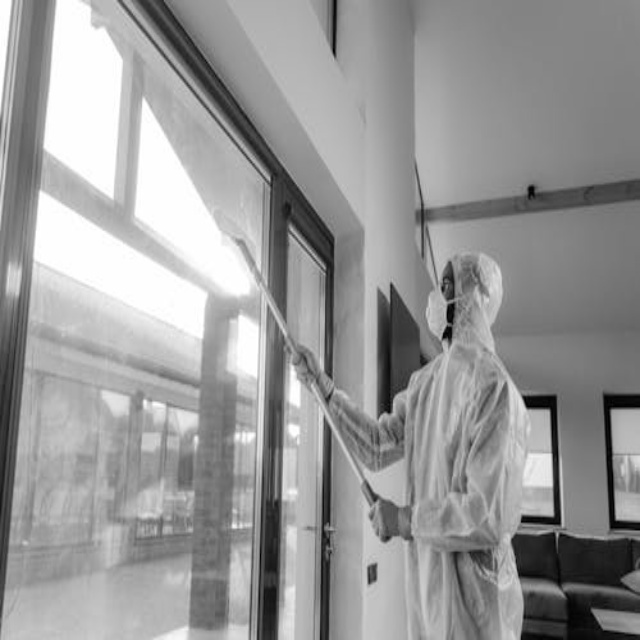Guantes: (280, 334, 333, 404), (368, 497, 399, 543)
Mascara: (425, 289, 449, 339)
